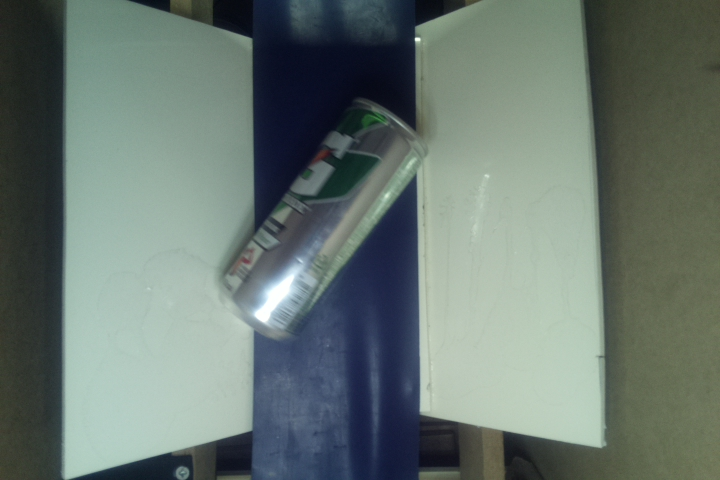can: (218, 89, 428, 342)
